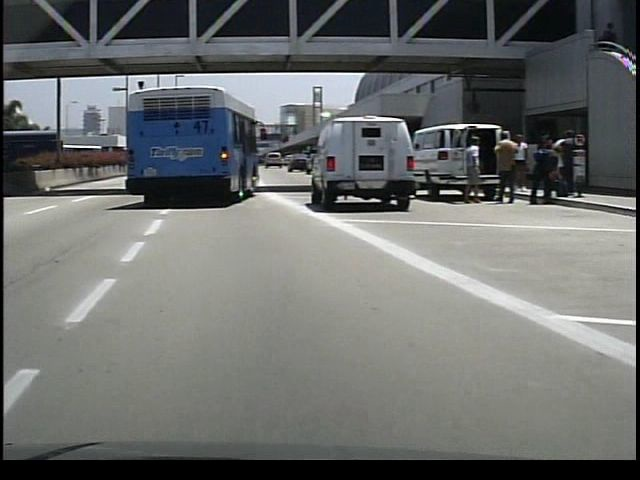person: (488, 129, 516, 209), (458, 133, 482, 207)
